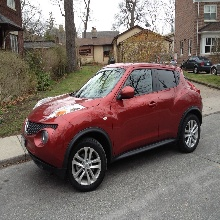no damage: (22, 63, 203, 191), (182, 55, 209, 74)
